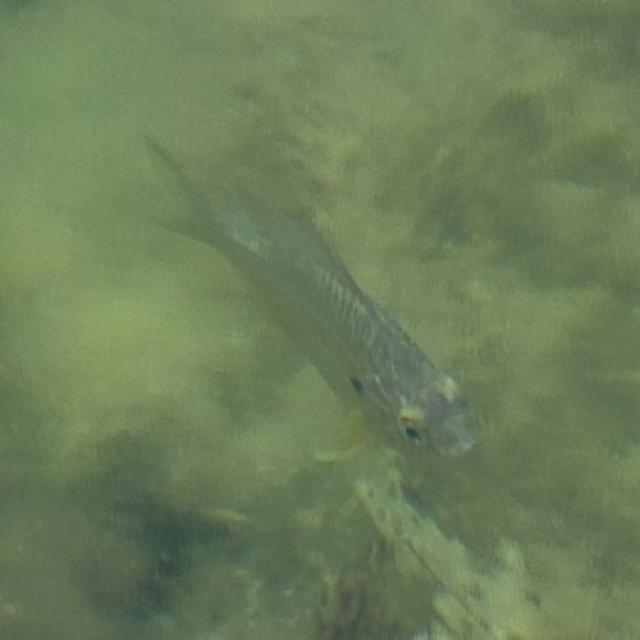Gunes Levregi: (151, 134, 486, 474)
